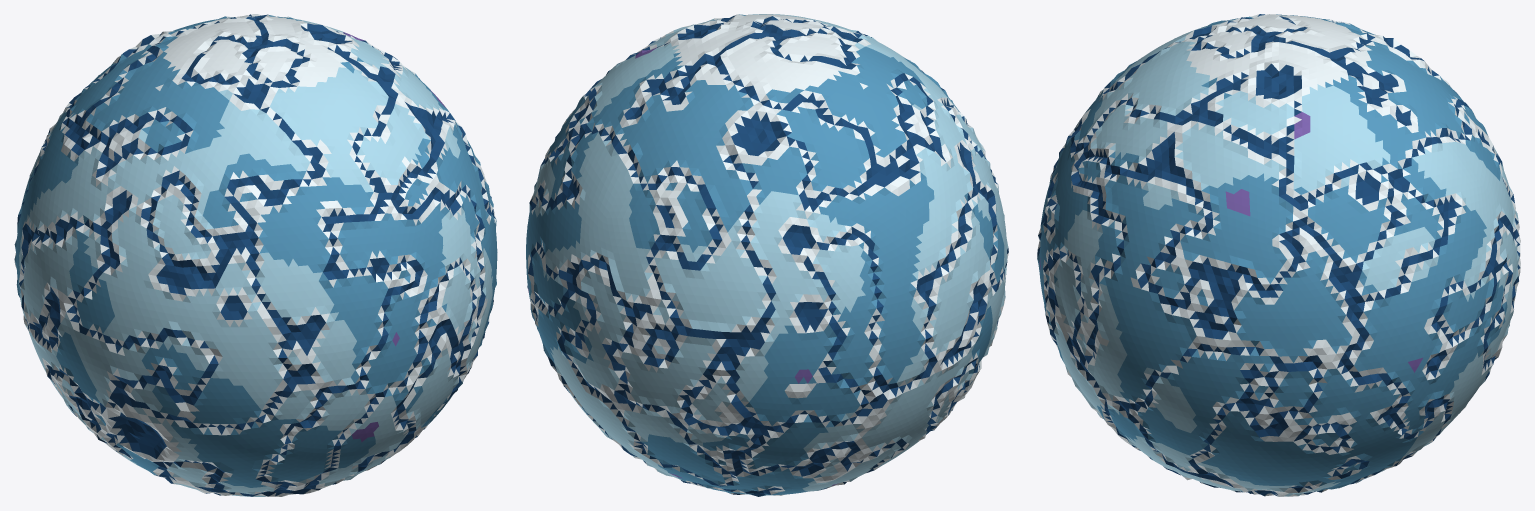
Rendered from CELESTIAL_10_IcyRoguePlanet.obj.
3 renders of one model, left to right at view 1: azimuth 30°, elevation 25°; view 2: azimuth 150°, elevation 25°; view 3: azimuth 270°, elevation 25°, orthographic.
Visible parts, largest first — view 1: CELESTIAL_10_IcyRoguePlanet_Rogue_Icy; view 2: CELESTIAL_10_IcyRoguePlanet_Rogue_Icy; view 3: CELESTIAL_10_IcyRoguePlanet_Rogue_Icy.
Boxes of the visible parts, x1=… form: CELESTIAL_10_IcyRoguePlanet_Rogue_Icy: x1=14, y1=14, x2=497, y2=496; CELESTIAL_10_IcyRoguePlanet_Rogue_Icy: x1=526, y1=14, x2=1008, y2=496; CELESTIAL_10_IcyRoguePlanet_Rogue_Icy: x1=1037, y1=14, x2=1520, y2=496.
Bounding box in the file's own units: 2.01 × 2.01 × 2.01.
